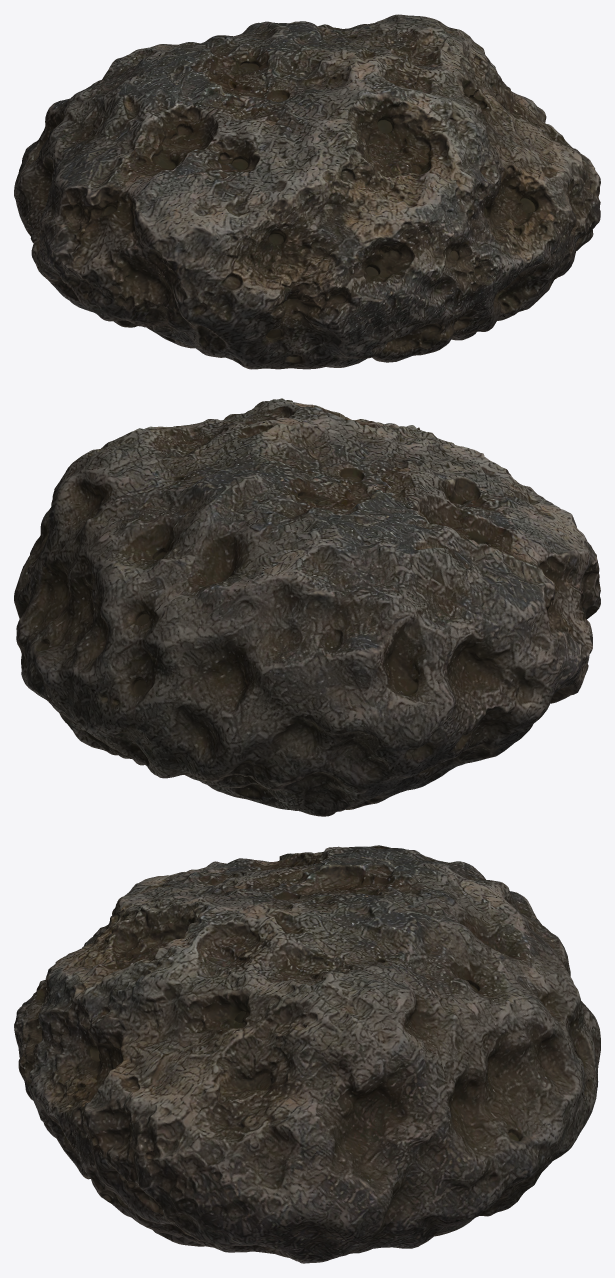
File: asteroid_common_3.glb
The picture shows the model from 3 angles, top to bottom: view 1: azimuth 30°, elevation 25°; view 2: azimuth 150°, elevation 25°; view 3: azimuth 270°, elevation 25°; orthographic projection. The views are drawn at different scales.
Parts seen in each view (by area): view 1: model; view 2: model; view 3: model.
Boxes of the visible parts, x1,y1,x2,y2 form: model: (14, 14, 600, 369); model: (14, 398, 600, 816); model: (14, 845, 600, 1263).
Bounding box in the file's own units: 1.9 × 0.9809 × 1.71.
Materials: 1 (1 with a texture image).
